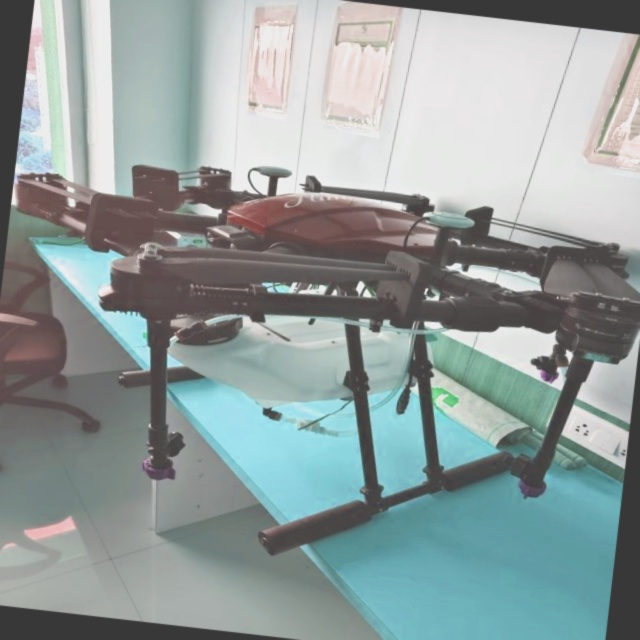agriculturedrone: (0, 128, 640, 601)
